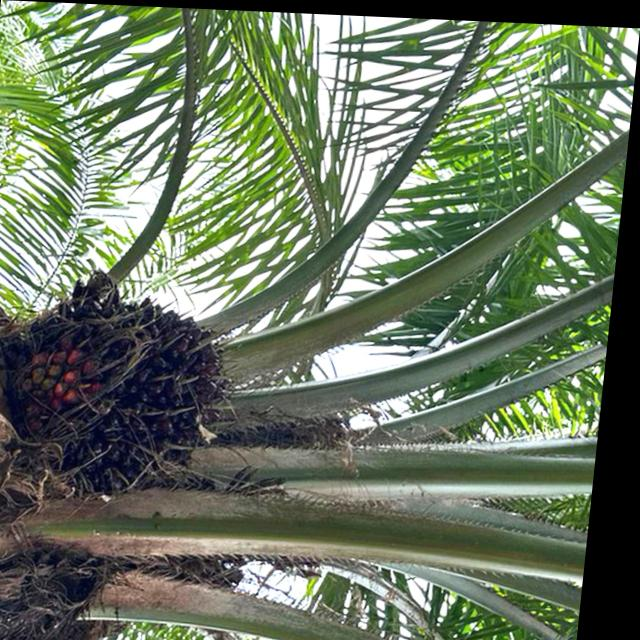ripe: (0, 264, 274, 527)
